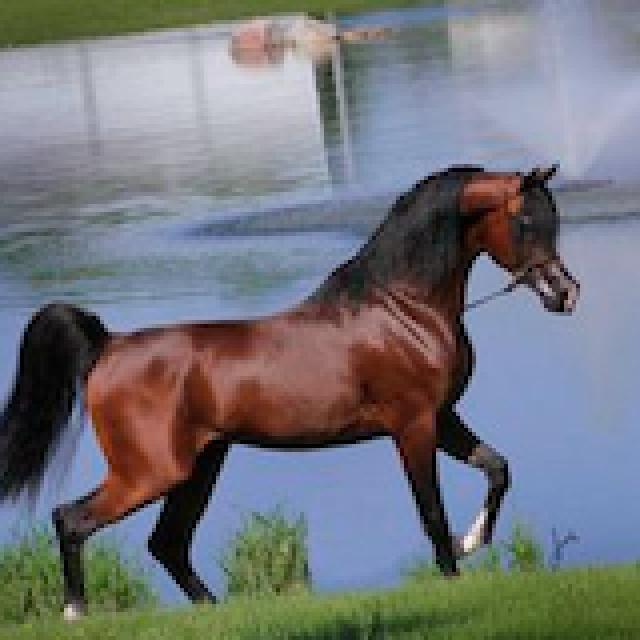Horse: (0, 152, 588, 616)
